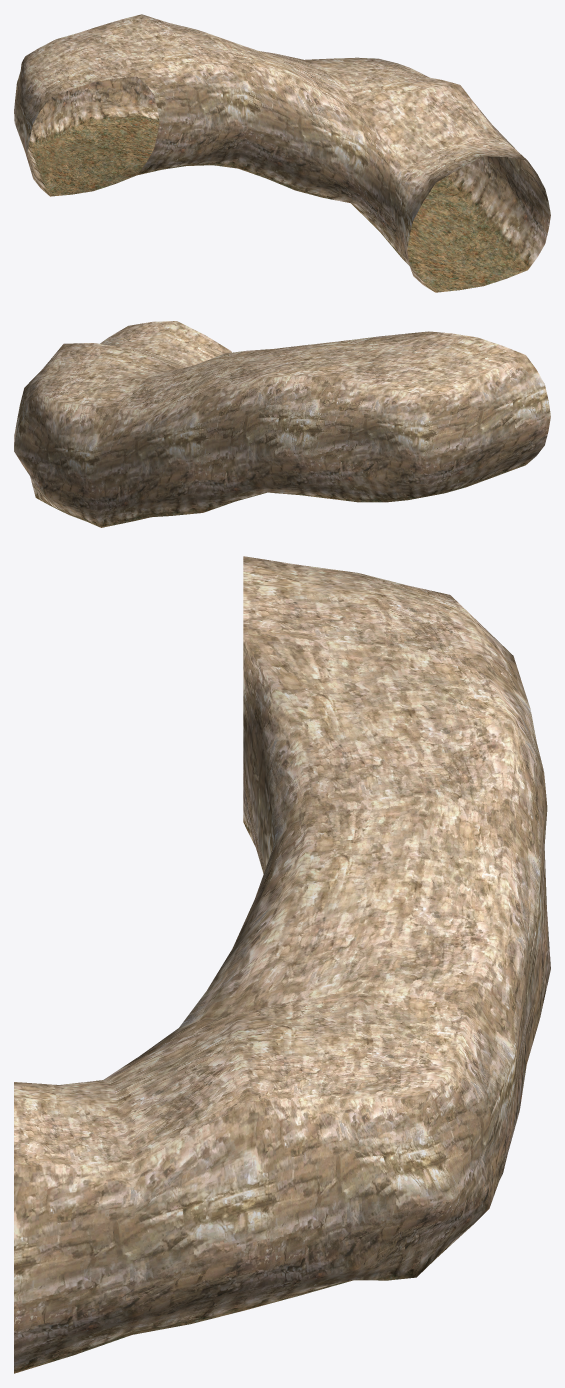
The model's file is thm_all_cave_flatland_s03_r24_mesh_r24.fbx.
3 views of the same model, one above another, from view 1: azimuth 30°, elevation 25°; view 2: azimuth 150°, elevation 25°; view 3: azimuth 270°, elevation 25° (orthographic). The views are drawn at different scales.
Parts seen in each view (by area): view 1: mesh_node; view 2: mesh_node; view 3: mesh_node.
Part boxes in pixels (x1=…): mesh_node: x1=14, y1=14, x2=550, y2=292; mesh_node: x1=14, y1=321, x2=550, y2=527; mesh_node: x1=14, y1=556, x2=550, y2=1373.
Bounding box in the file's own units: 35.17 × 17.46 × 18.73.
